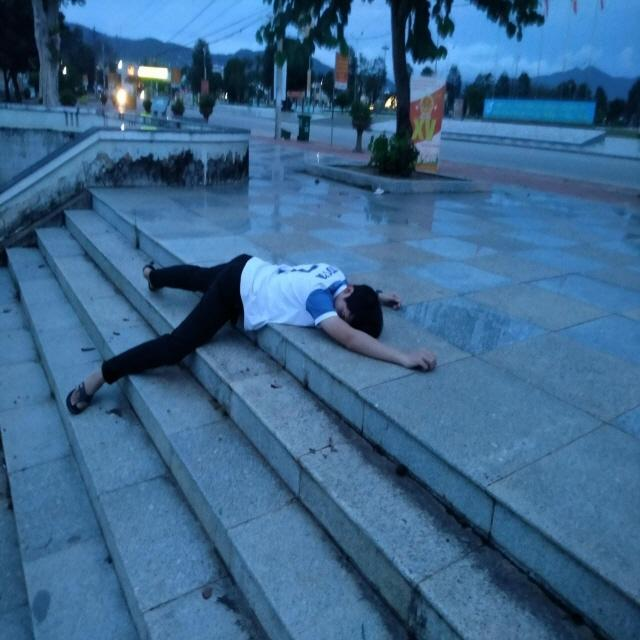Fall: (65, 254, 438, 416)
